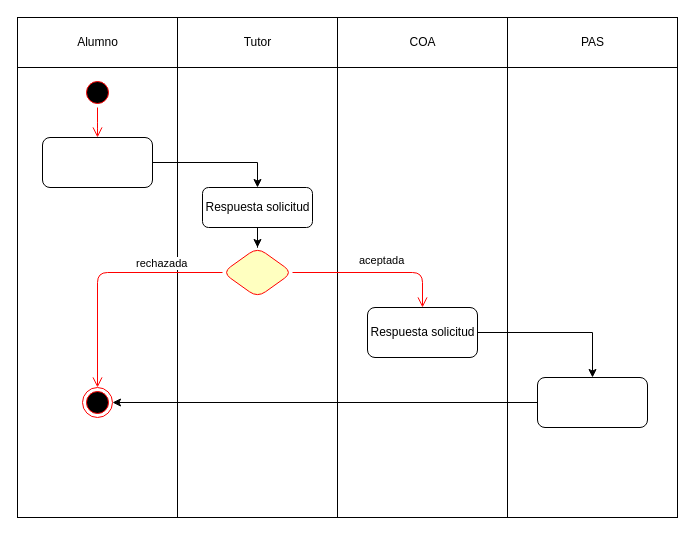
This 695x535 diagram has some shape labels left out. Each missing label, with the centre of its shape:
Condition: point 257,272
Registro respuesta: point 592,402
Registro solicitud: point 97,162
